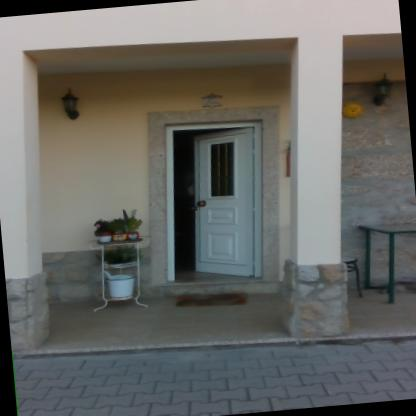semi: (144, 103, 290, 302)
